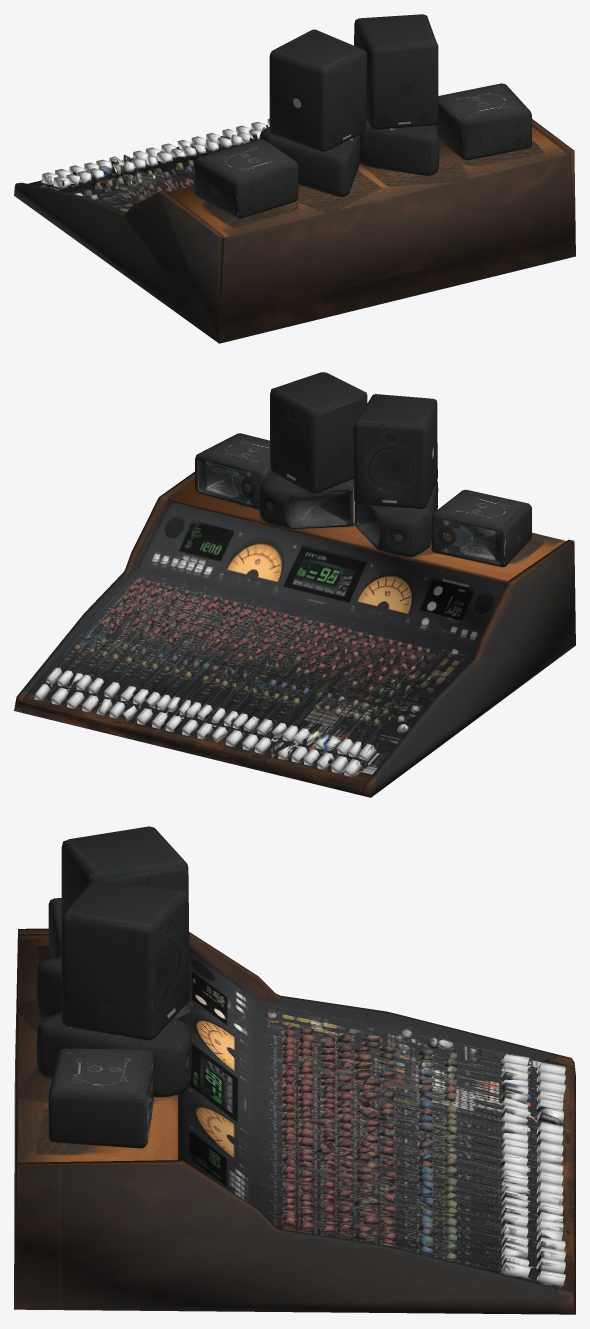
File: office-mixing-console.glb
3 renders of one model, top to bottom at view 1: azimuth 30°, elevation 25°; view 2: azimuth 150°, elevation 25°; view 3: azimuth 270°, elevation 25°, orthographic. The views are drawn at different scales.
Visible parts, largest first — view 1: mixing-console; view 2: mixing-console; view 3: mixing-console.
Part boxes in pixels (bbox=[...]): mixing-console: bbox=[14, 14, 575, 343]; mixing-console: bbox=[14, 372, 575, 797]; mixing-console: bbox=[14, 826, 575, 1314].
Bounding box in the file's own units: 2 × 1.25 × 1.99.
1 material, 1 textured.
